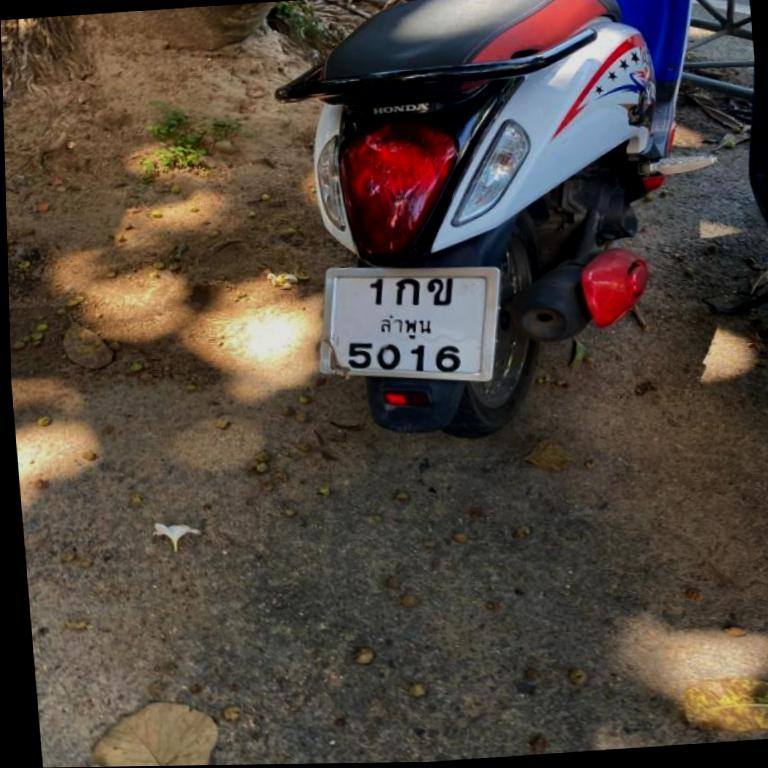license plate: (319, 266, 501, 381)
